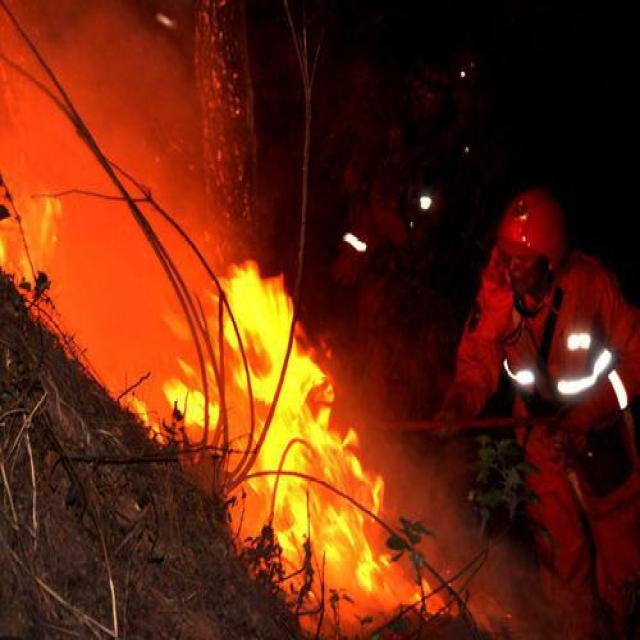fire: (118, 232, 416, 592)
other: (498, 310, 624, 410), (405, 187, 437, 227), (338, 220, 368, 255)
